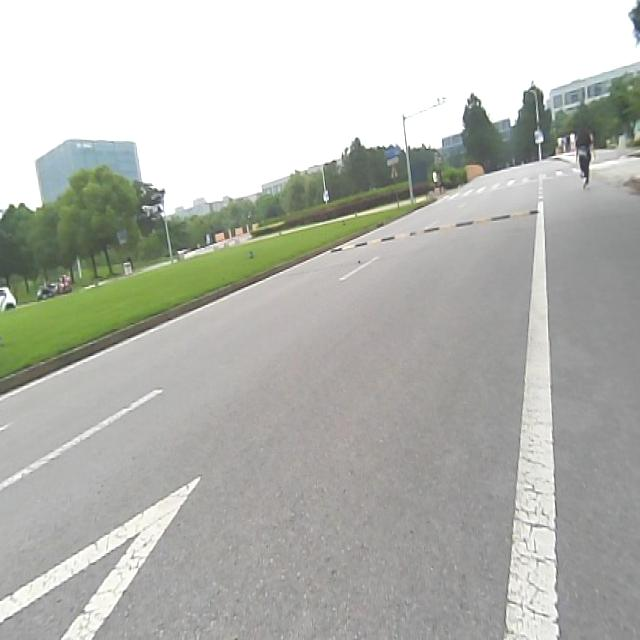Speed Bump: (422, 207, 540, 233), (329, 225, 418, 252)
